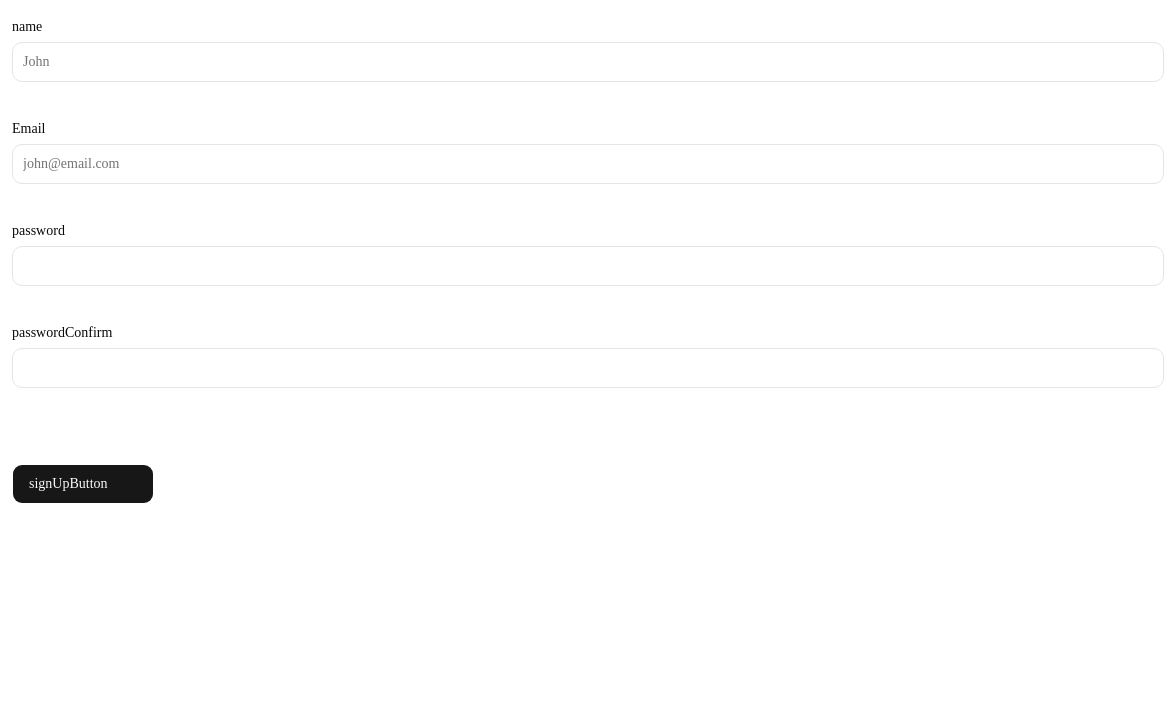
Test: SignUpForm › server submission › shows validation_error when the server rejects the payload
Type "Ada" into the field with placeholder "John" at {"x": 588, "y": 62}, box [12, 42, 1164, 82]
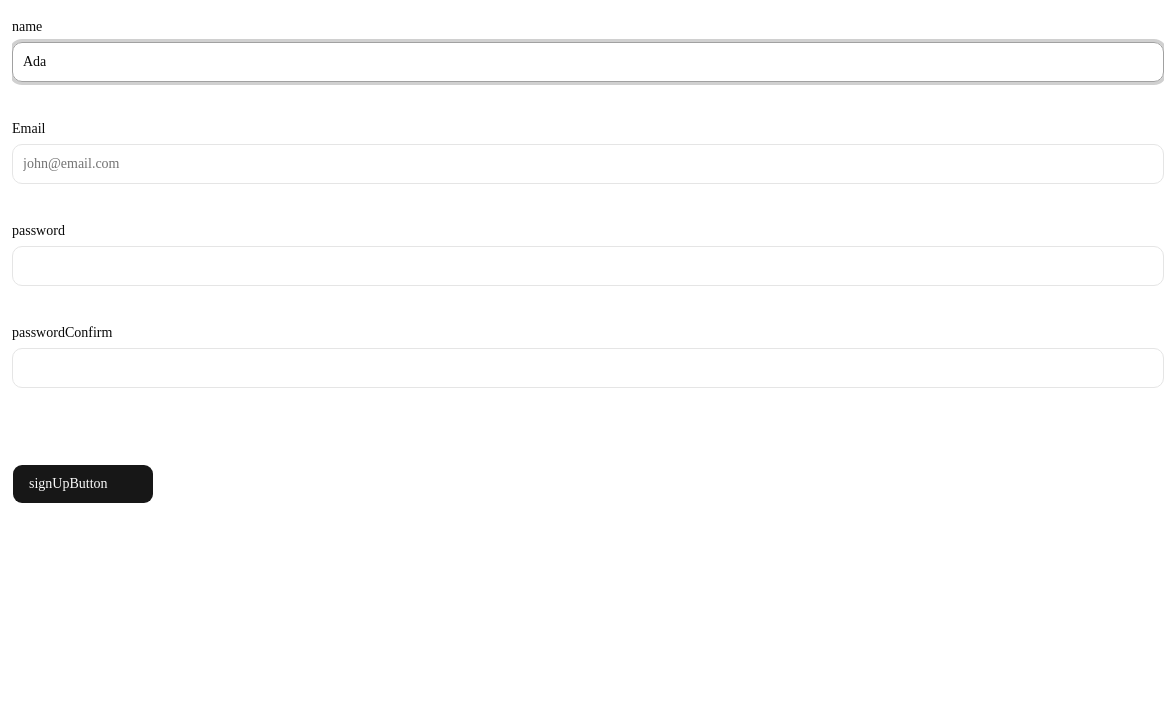
Type "ada@example.com" into the field with placeholder "john@email.com" at {"x": 588, "y": 164}, box [12, 144, 1164, 184]
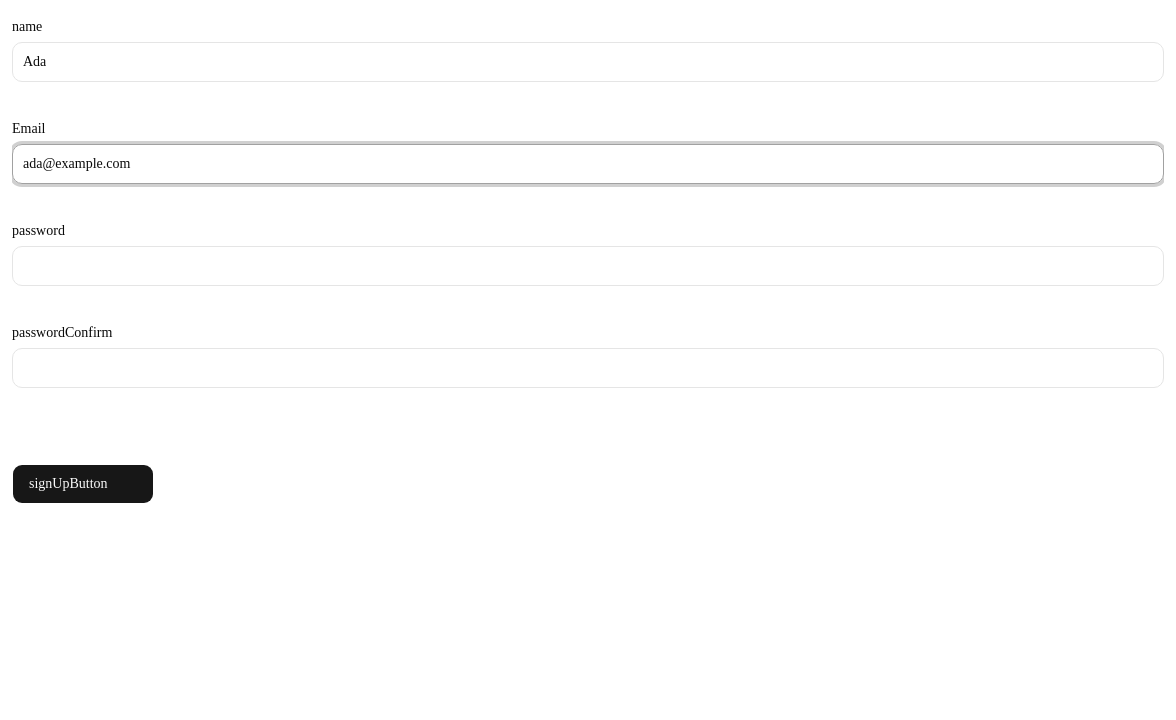
Type "Password1!" into the password field labelled "password" at {"x": 588, "y": 266}, box [12, 246, 1164, 286]
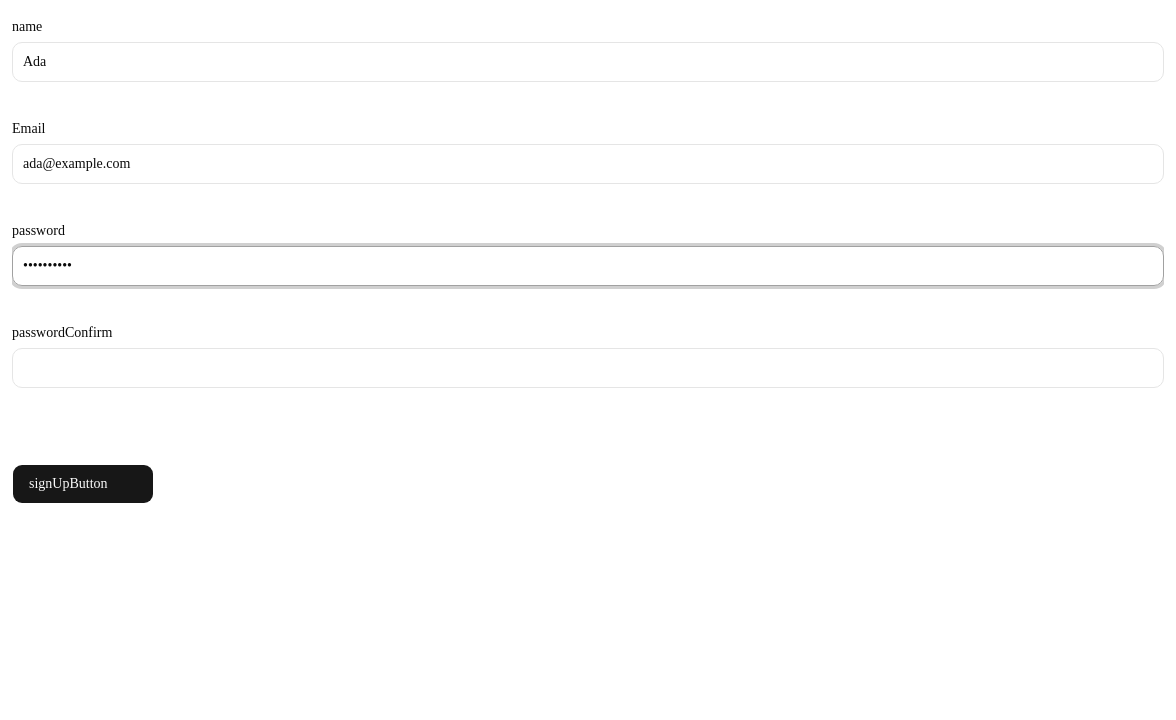
Type "Password1!" into the password field labelled "passwordConfirm" at {"x": 588, "y": 368}, box [12, 348, 1164, 388]
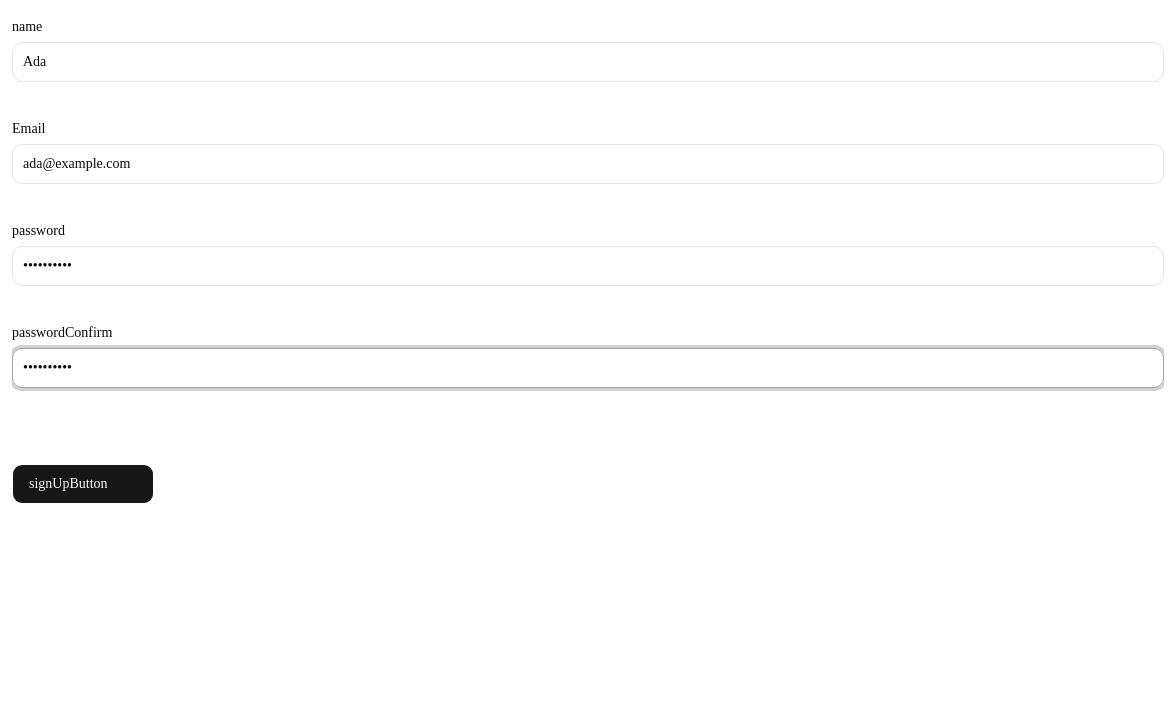
Click the button "signUpButton" at {"x": 83, "y": 484}, box [12, 464, 154, 504]
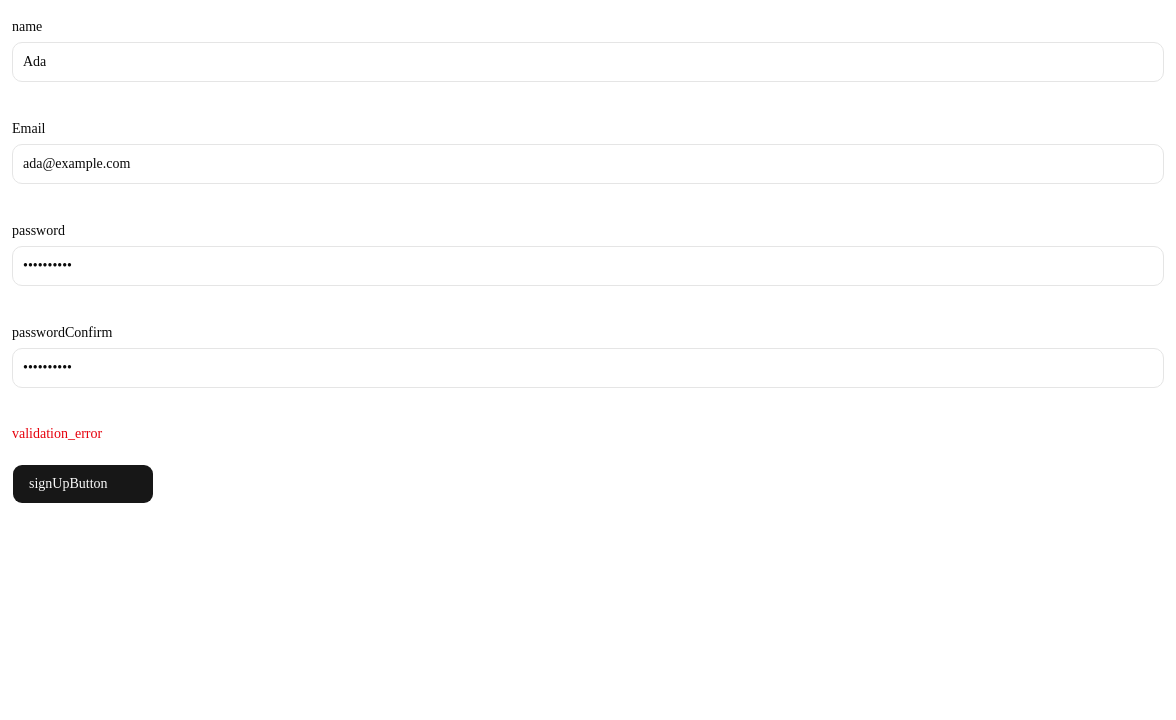
Now the message reads "validation_error", box [12, 426, 102, 441]
